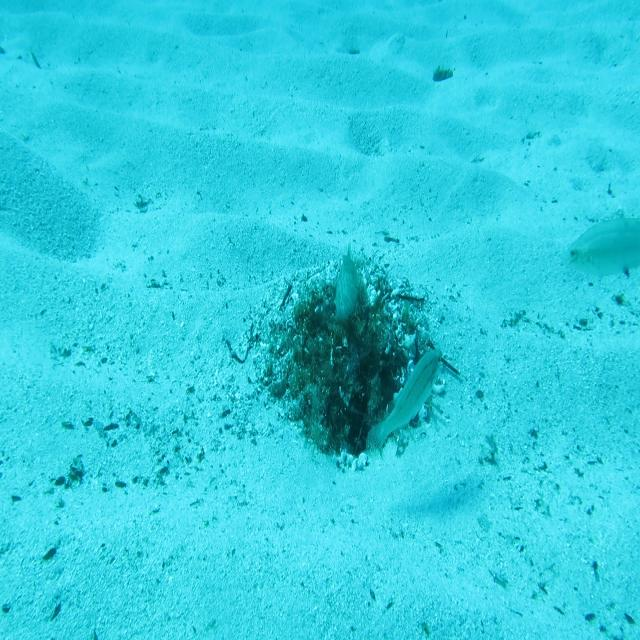NIP_CORE: (332, 241, 363, 335)
core_nest: (318, 310, 368, 360)
female: (362, 342, 445, 469), (560, 213, 640, 283)
nest: (244, 243, 457, 480)
vegetation: (431, 66, 456, 84)
